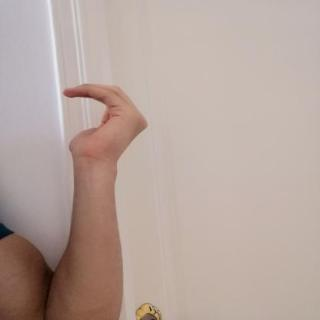HAA: (46, 79, 160, 166)
